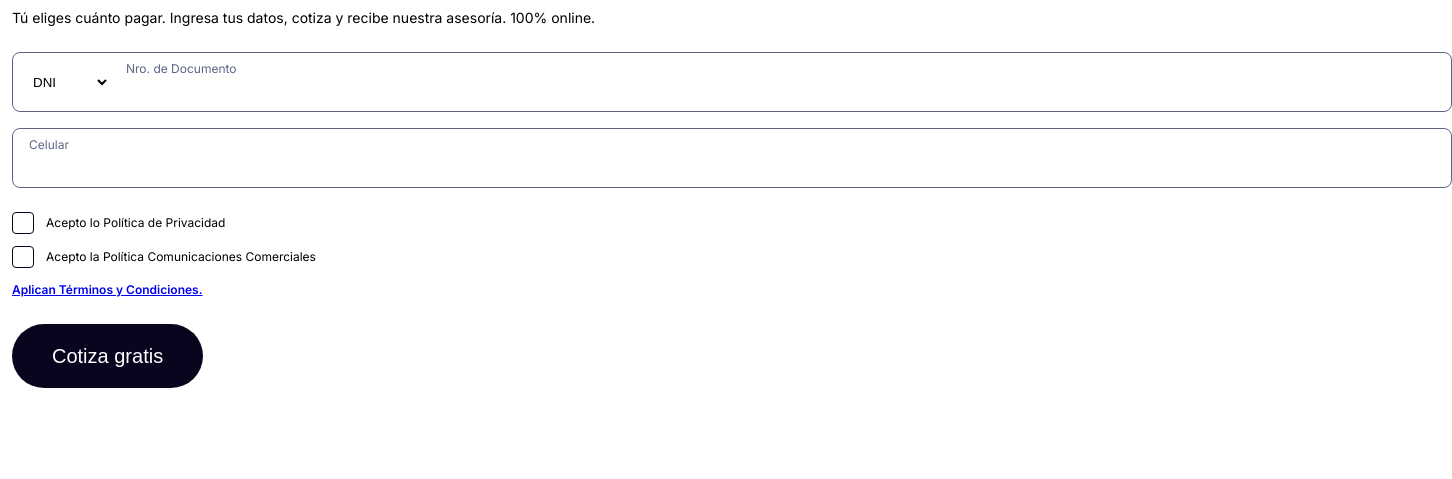
Scenario: LoginForm › required fields › shows validation errors when submitting empty form
Click the button "Cotiza gratis": (108, 356) [12,324,203,388]
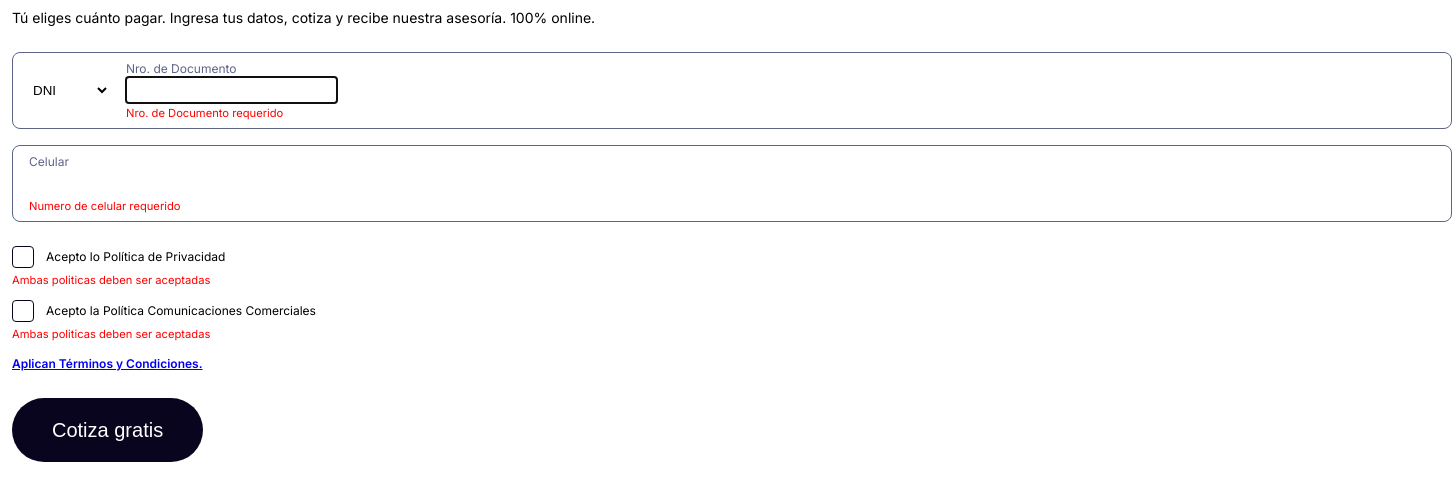
Now the text "Nro. de Documento requerido" is shown, box [126,106,283,120]
Now the text "Numero de celular requerido" is shown, box [29,199,180,213]
Now the text "Ambas politicas deben ser aceptadas" is shown 2 times, box [12,273,210,287]; [12,327,210,341]
